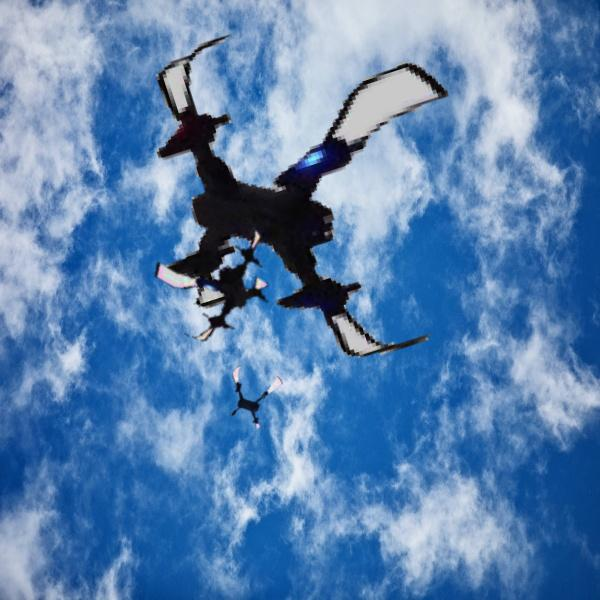drone: (136, 6, 513, 383), (148, 208, 284, 344), (219, 363, 285, 429)
